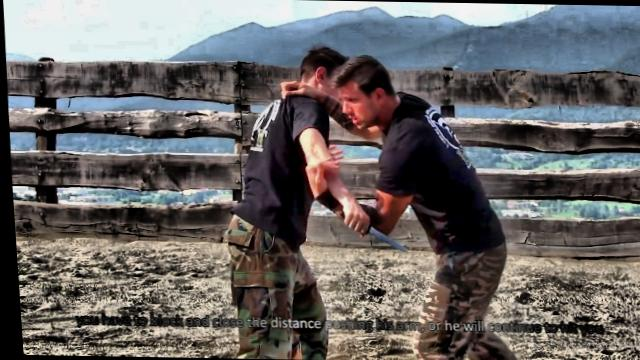knife: (333, 207, 413, 256)
